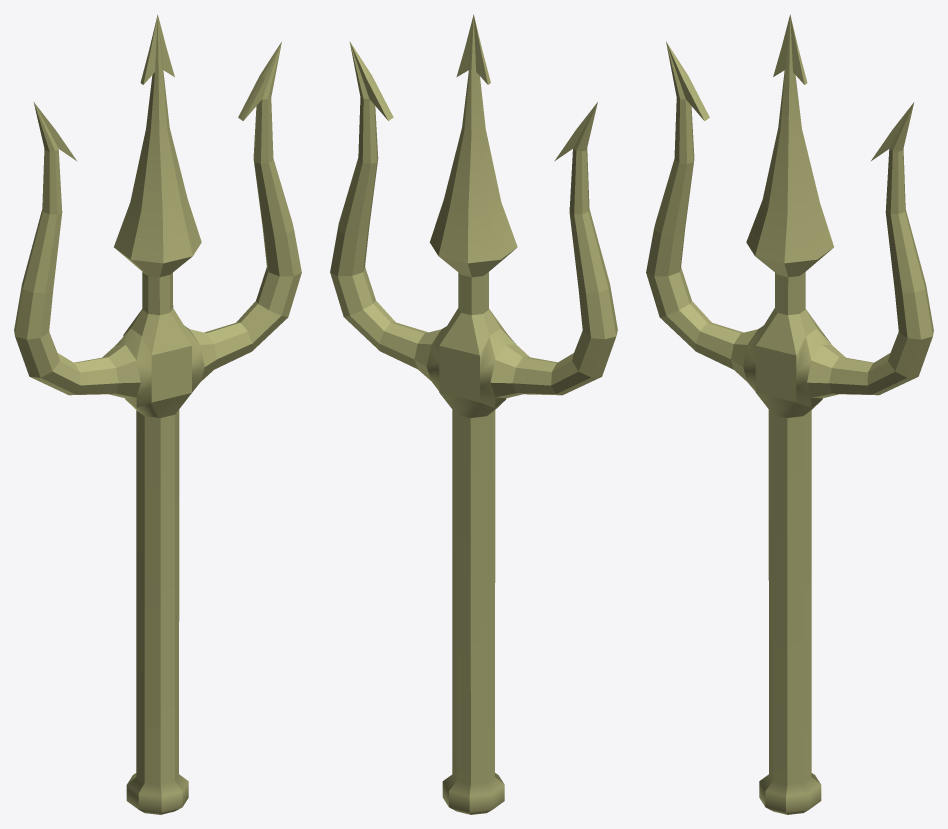
The model's file is Trident.fbx.
3 renders of one model, left to right at view 1: azimuth 30°, elevation 25°; view 2: azimuth 150°, elevation 25°; view 3: azimuth 330°, elevation 25°, orthographic.
Parts seen in each view (by area): view 1: pCylinder8; view 2: pCylinder8; view 3: pCylinder8.
Boxes of the visible parts, x1,y1,x2,y2 form: pCylinder8: [14, 14, 301, 814]; pCylinder8: [330, 14, 617, 814]; pCylinder8: [646, 14, 933, 814].
Size of the model in its own units: 3.81 by 10.11 by 0.9497.
